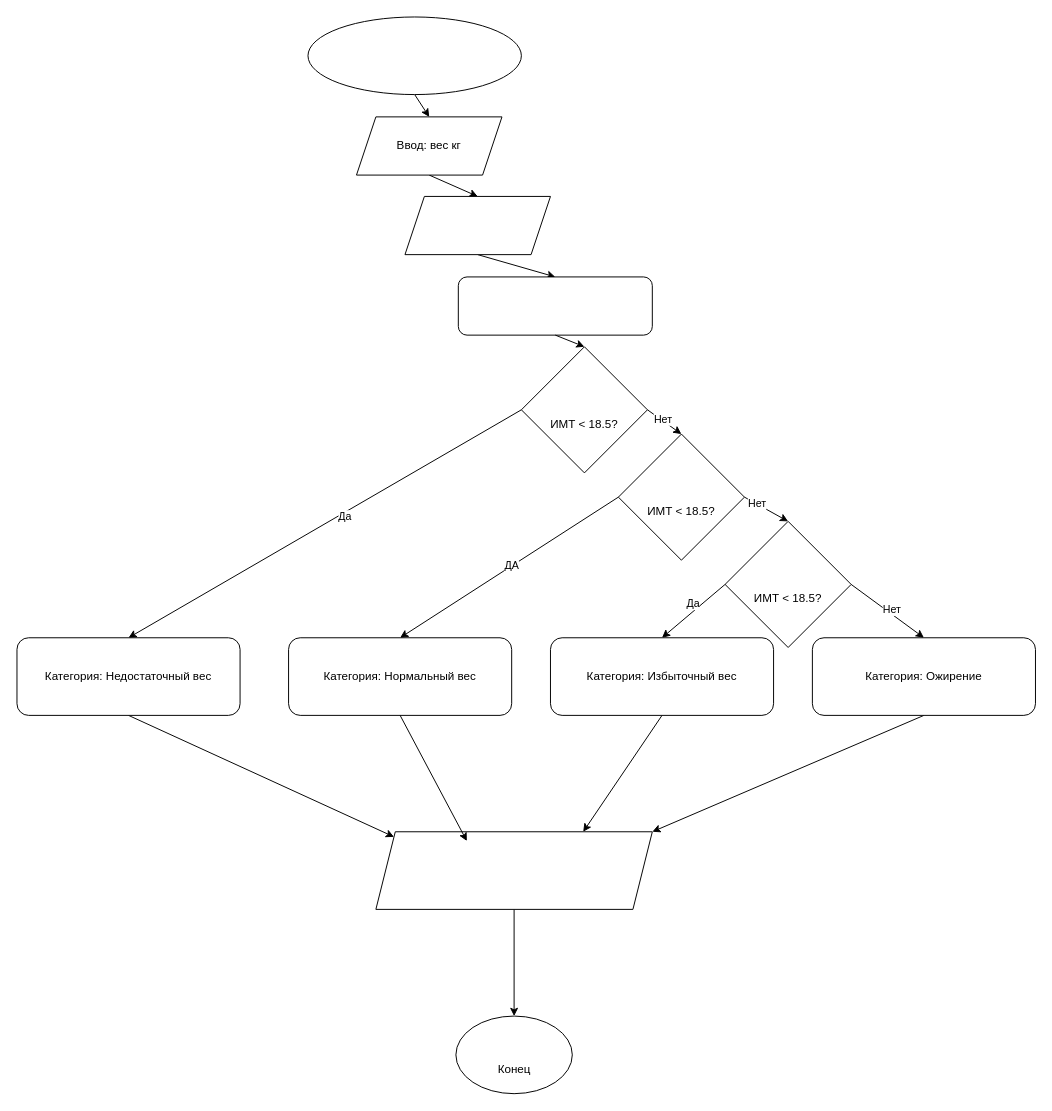
This 1052x1111 diagram has some shape labels left out. Each missing label, with the centre of its shape:
"Ввод: рост м" belongs at point (477, 225).
"Вывод: ИМТ + категория + Рекомендации" belongs at point (513, 870).
"Начало" belongs at point (414, 55).
"Расчёт: ИМТ = вес / рост**2" belongs at point (554, 305).
